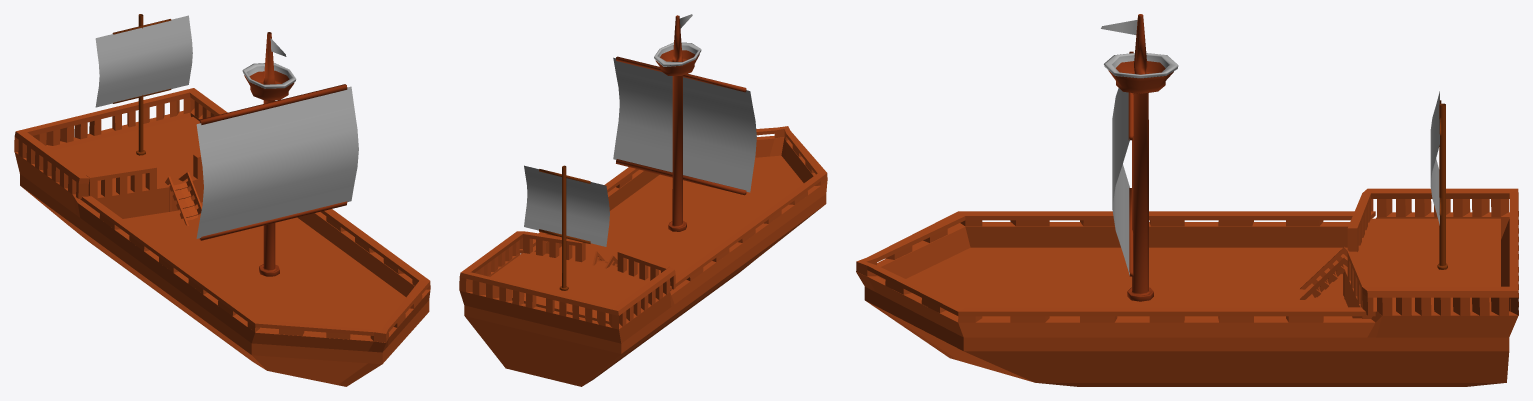
The model's file is lowpolyboat.glb.
3 renders of one model, left to right at view 1: azimuth 30°, elevation 25°; view 2: azimuth 150°, elevation 25°; view 3: azimuth 270°, elevation 25°, orthographic. The views are drawn at different scales.
Parts seen in each view (by area): view 1: Cube, Cube.001, Cube.002; view 2: Cube, Cube.001, Cube.002; view 3: Cube, Cube.001, Cube.002.
Boxes of the visible parts, left/top/right/bottom form: Cube: left=14, top=88, right=430, bottom=386; Cube.001: left=95, top=15, right=358, bottom=276; Cube.002: left=112, top=14, right=171, bottom=155; Cube: left=459, top=126, right=827, bottom=386; Cube.001: left=524, top=14, right=756, bottom=246; Cube.002: left=539, top=165, right=590, bottom=290; Cube: left=856, top=188, right=1518, bottom=386; Cube.001: left=1101, top=14, right=1439, bottom=301; Cube.002: left=1437, top=100, right=1447, bottom=269.
Bounding box in the file's own units: 4.65 × 7.36 × 12.56.
